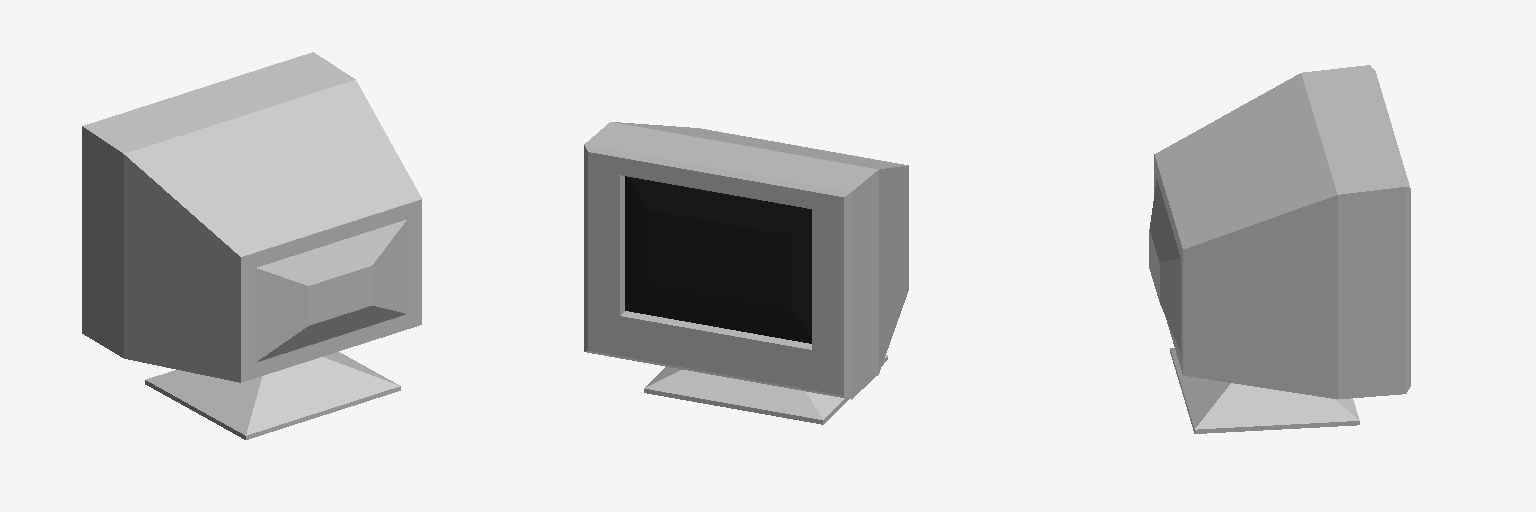
The model's file is Monitor1.obj.
The picture shows the model from 3 angles: view 1: azimuth 30°, elevation 25°; view 2: azimuth 150°, elevation 25°; view 3: azimuth 270°, elevation 25°; orthographic projection.
Visible parts, largest first — view 1: Plane.003_Plane.020; view 2: Plane.003_Plane.020; view 3: Plane.003_Plane.020.
Boxes of the visible parts, x1,y1,x2,y2 form: Plane.003_Plane.020: [82, 52, 421, 439]; Plane.003_Plane.020: [584, 122, 908, 424]; Plane.003_Plane.020: [1149, 65, 1410, 433].
Size of the model in its own units: 0.8352 by 0.7957 by 0.7336.